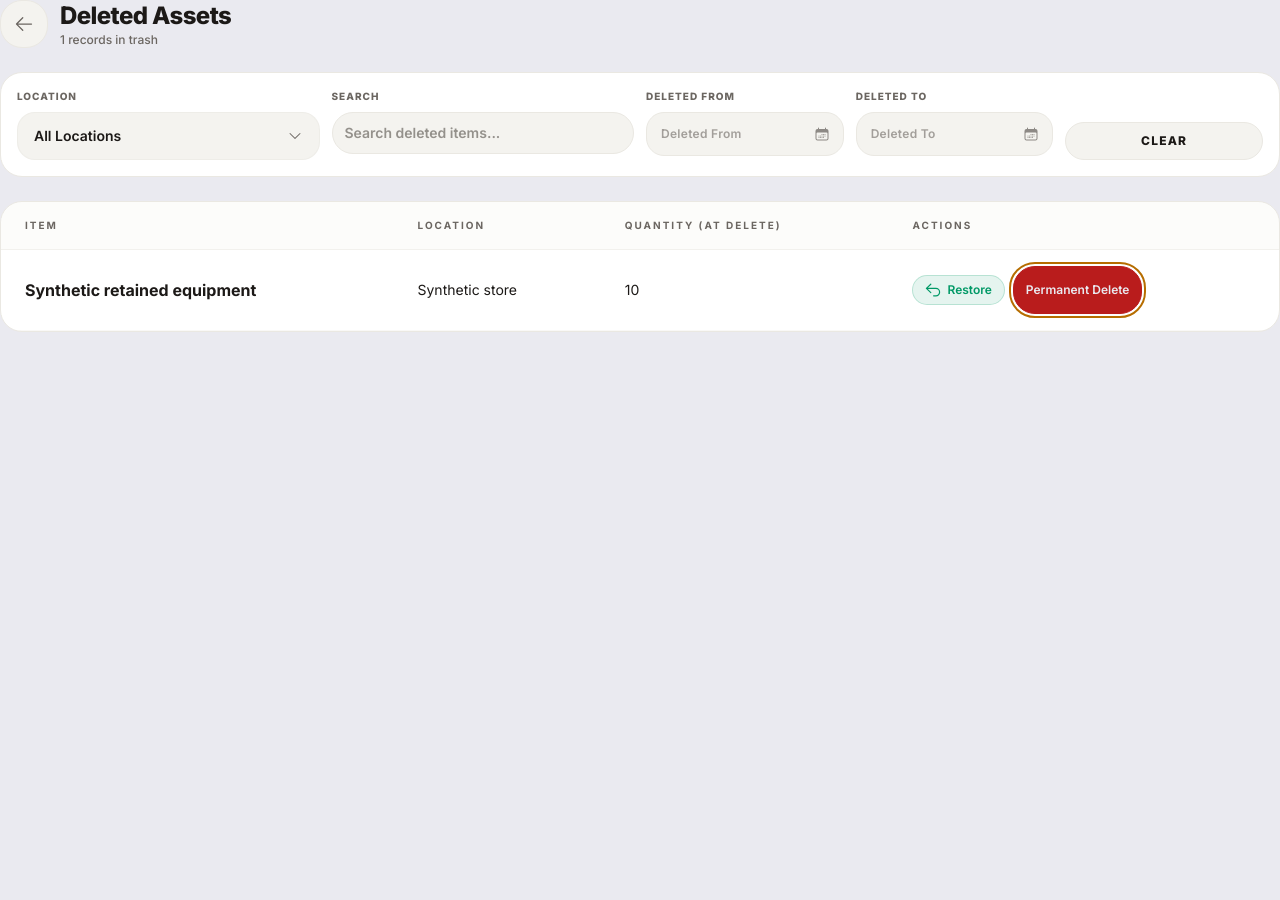
it: permanent asset deletion recovery › renders stable ITEM_NOT_TRASHED recovery without exposing raw server details
Click the button "Permanent Delete" at point(1078, 290), box x1=1013 y1=266 x2=1142 y2=314
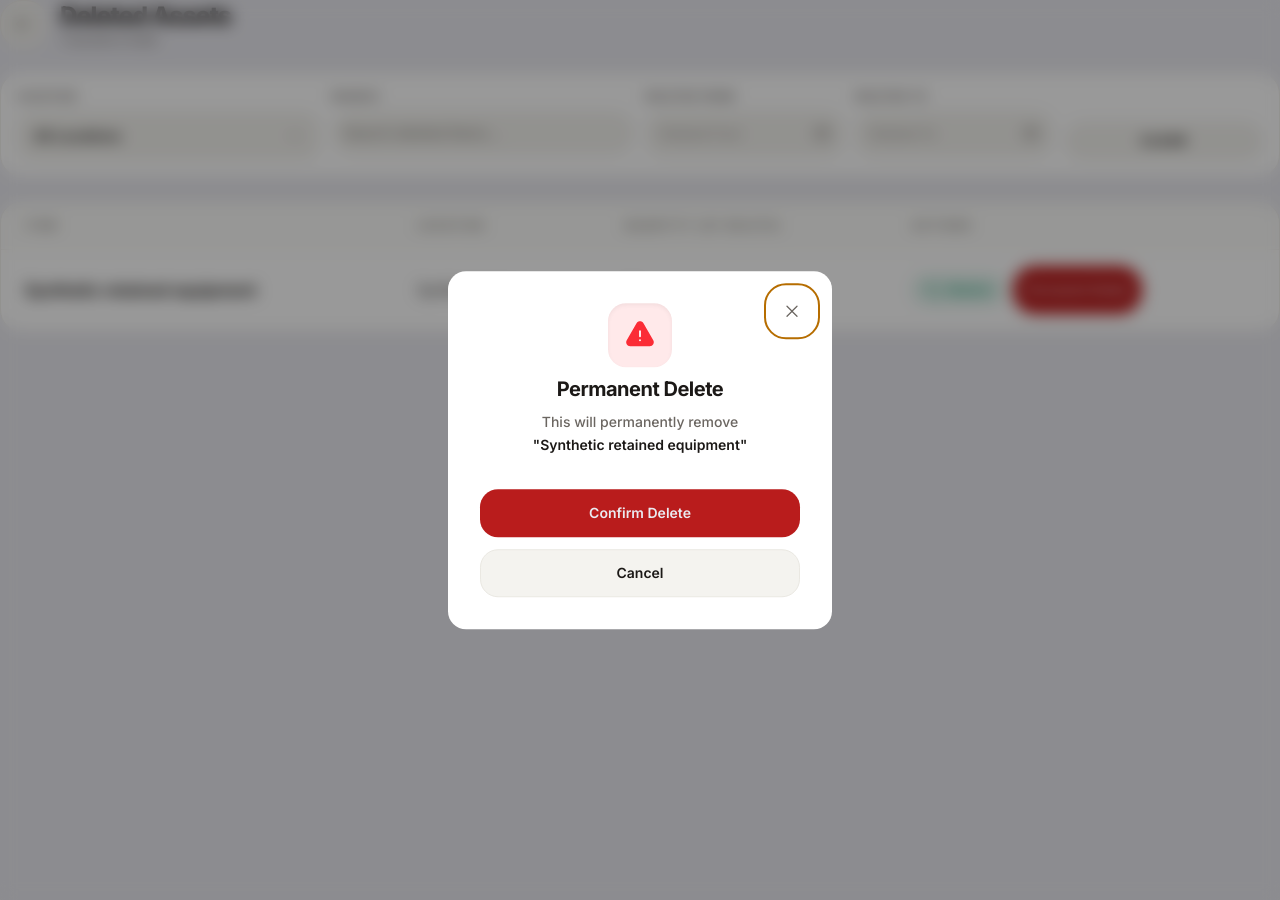
Click the button "Confirm Delete" at point(640, 513), box x1=480 y1=489 x2=800 y2=537
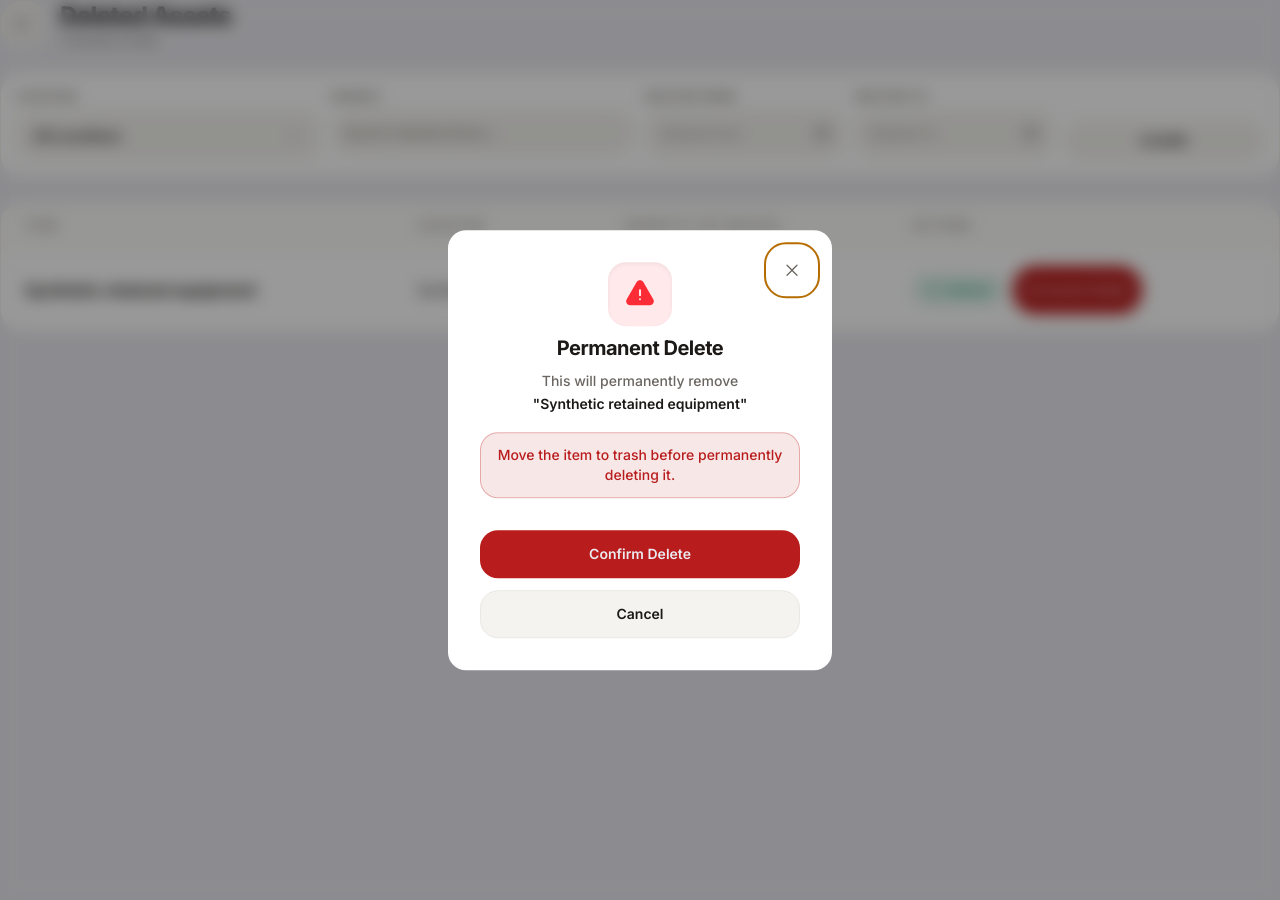
Expected: the message does not show "service internals", x1=480 y1=432 x2=800 y2=498
Expected: the message shows "Move the item to trash", x1=498 y1=446 x2=782 y2=483
